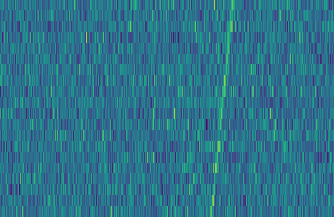signal: (207, 0, 238, 217)
